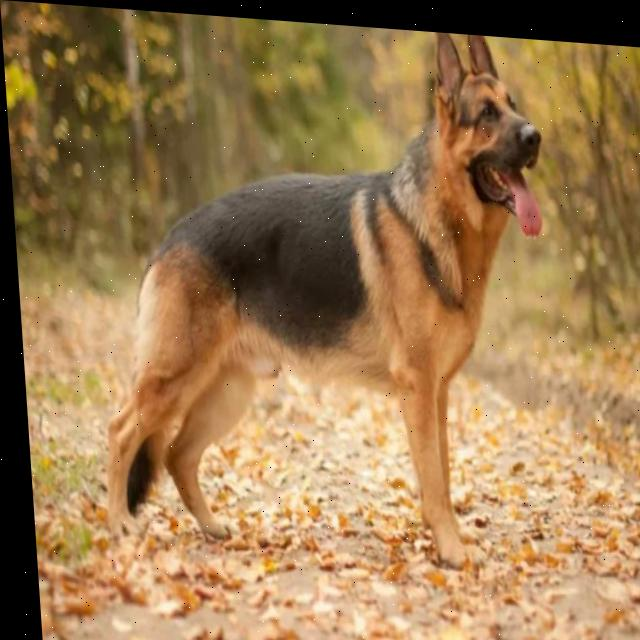GERMAN_SHEPHERD: (58, 3, 573, 580)
